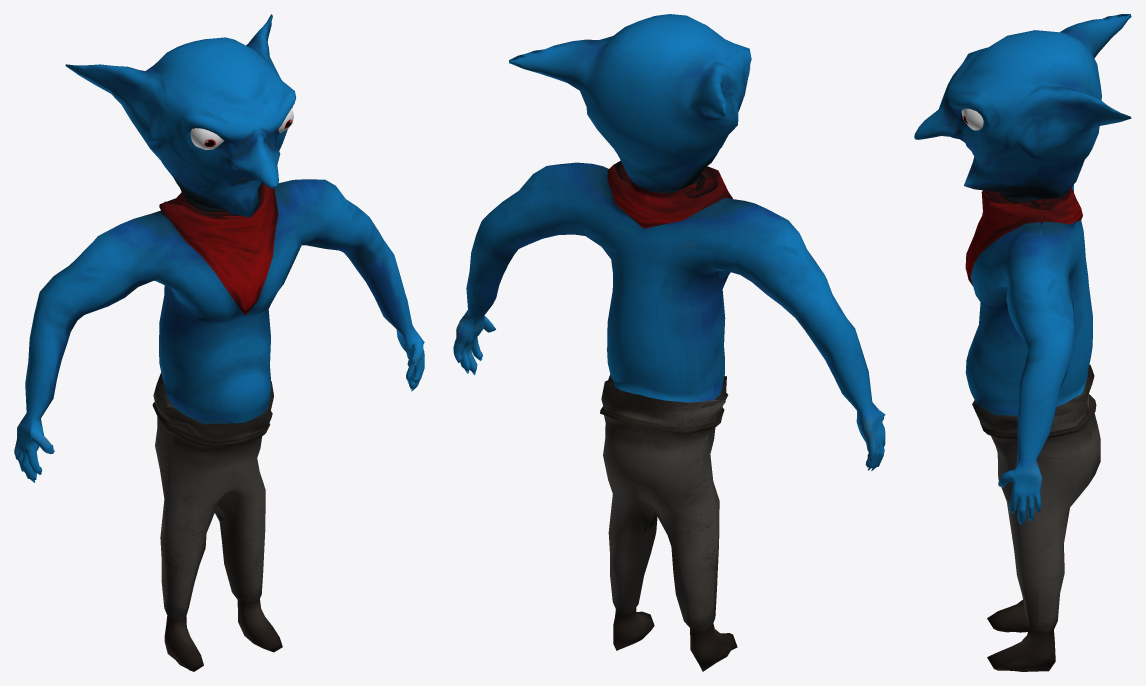
Rendered from Goblin Cobbler Export.fbx.
The picture shows the model from 3 angles, left to right: view 1: azimuth 30°, elevation 25°; view 2: azimuth 150°, elevation 25°; view 3: azimuth 270°, elevation 25°; orthographic projection. The views are drawn at different scales.
Parts seen in each view (by area): view 1: pSphere6; view 2: pSphere6; view 3: pSphere6.
Part boxes in pixels (<box>): pSphere6: <box>14,14,424,671</box>; pSphere6: <box>453,14,885,671</box>; pSphere6: <box>914,14,1131,671</box>.
Size of the model in its own units: 2.62 by 3.75 by 1.21.
